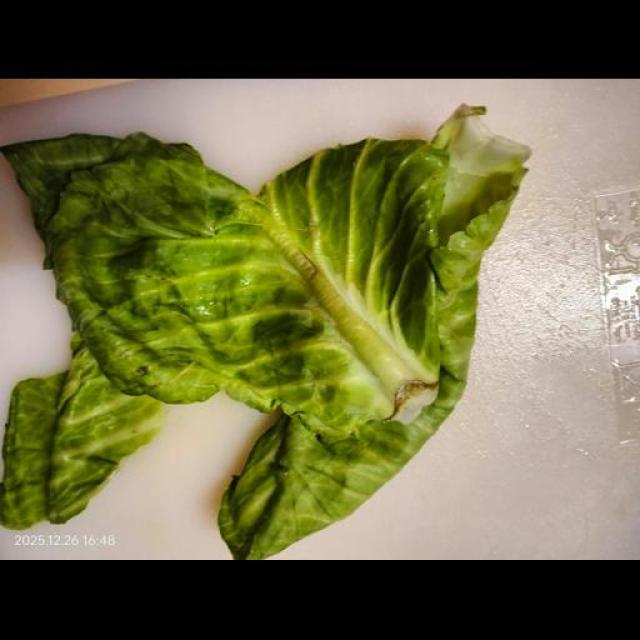organic: (2, 107, 528, 558), (219, 108, 528, 558), (44, 134, 447, 432), (219, 195, 511, 558), (49, 134, 317, 409), (3, 134, 249, 402), (262, 139, 447, 422), (219, 379, 461, 558), (0, 338, 162, 528), (0, 338, 161, 528), (48, 338, 163, 522), (433, 105, 529, 244), (2, 135, 118, 244), (0, 374, 66, 529)
